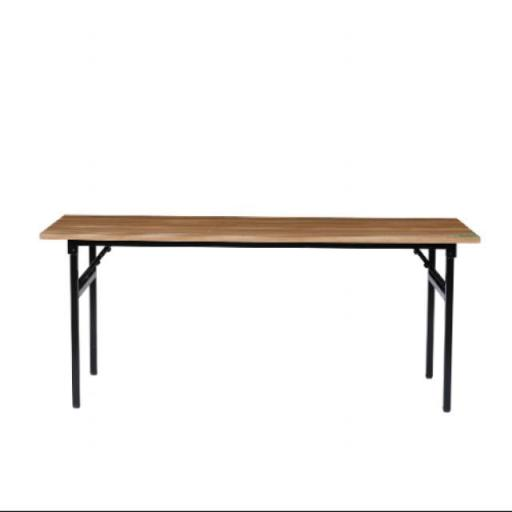table: (37, 210, 485, 415)
